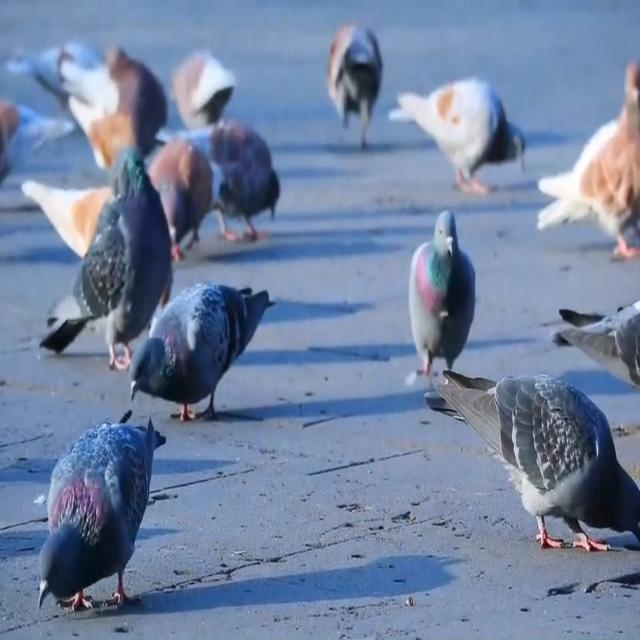bird: (417, 336, 640, 598), (12, 138, 168, 386), (100, 262, 303, 443), (24, 389, 178, 612), (527, 27, 640, 276), (378, 60, 536, 206), (162, 89, 292, 265), (395, 192, 491, 428), (44, 31, 174, 172), (9, 141, 124, 294), (132, 104, 229, 261), (537, 278, 640, 417), (311, 0, 389, 151), (2, 22, 115, 124), (0, 71, 78, 204), (152, 31, 242, 132)
